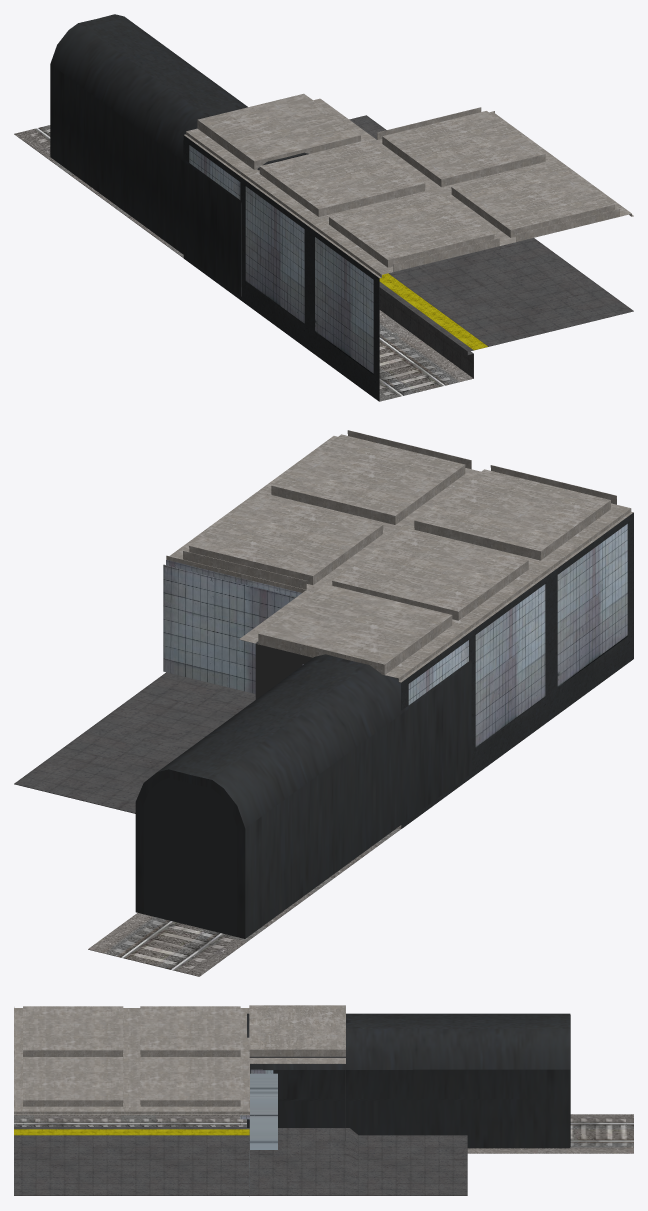
File: Dıs1.fbx
The picture shows the model from 3 angles, top to bottom: view 1: azimuth 30°, elevation 25°; view 2: azimuth 150°, elevation 25°; view 3: azimuth 270°, elevation 25°; orthographic projection. The views are drawn at different scales.
Visible parts, largest first — view 1: Dış 1; view 2: Dış 1; view 3: Dış 1.
Part boxes in pixels (bbox=[...]): Dış 1: bbox=[14, 14, 633, 401]; Dış 1: bbox=[14, 430, 633, 976]; Dış 1: bbox=[14, 1005, 633, 1196].
Size of the model in its own units: 1343 by 674 by 3295.
